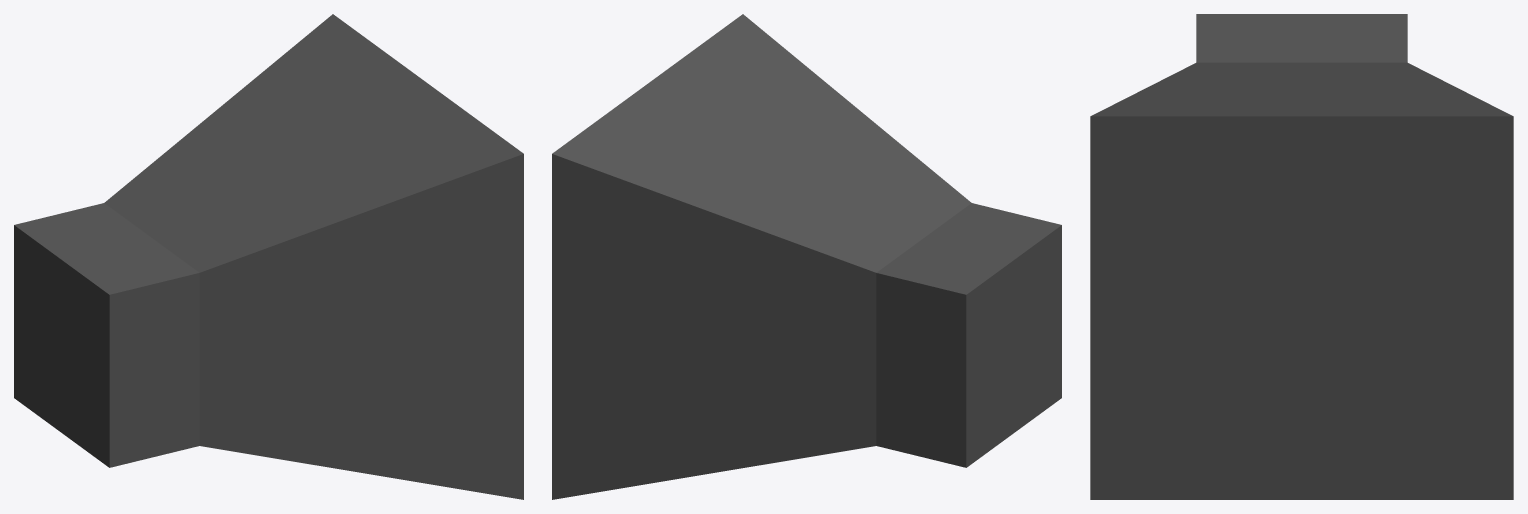
The model's file is camera.glb.
The picture shows the model from 3 angles, left to right: view 1: azimuth 30°, elevation 25°; view 2: azimuth 150°, elevation 25°; view 3: azimuth 270°, elevation 25°; orthographic projection. The views are drawn at different scales.
Visible parts, largest first — view 1: Cube; view 2: Cube; view 3: Cube.
Part boxes in pixels (x1,y1,x2,y2): Cube: (14,14,523,499); Cube: (552,14,1061,499); Cube: (1090,14,1513,499).
Size of the model in its own units: 1.11 by 1 by 1.
Materials: 1 (1 with a texture image).
